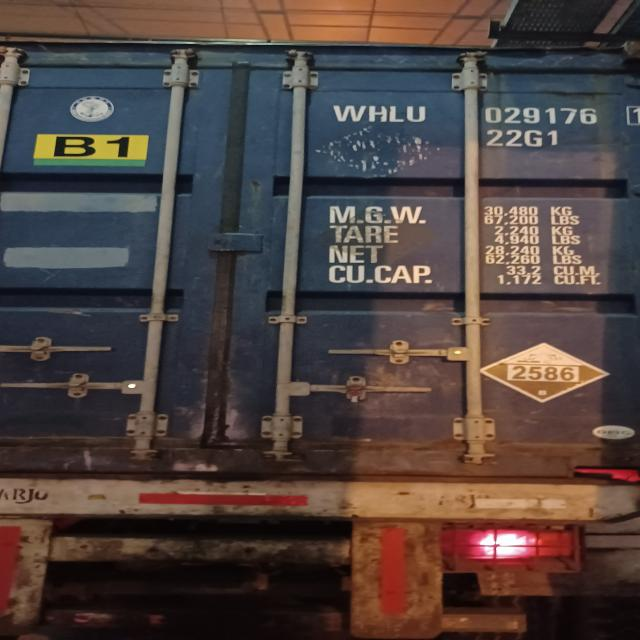seal: (343, 380, 369, 405)
